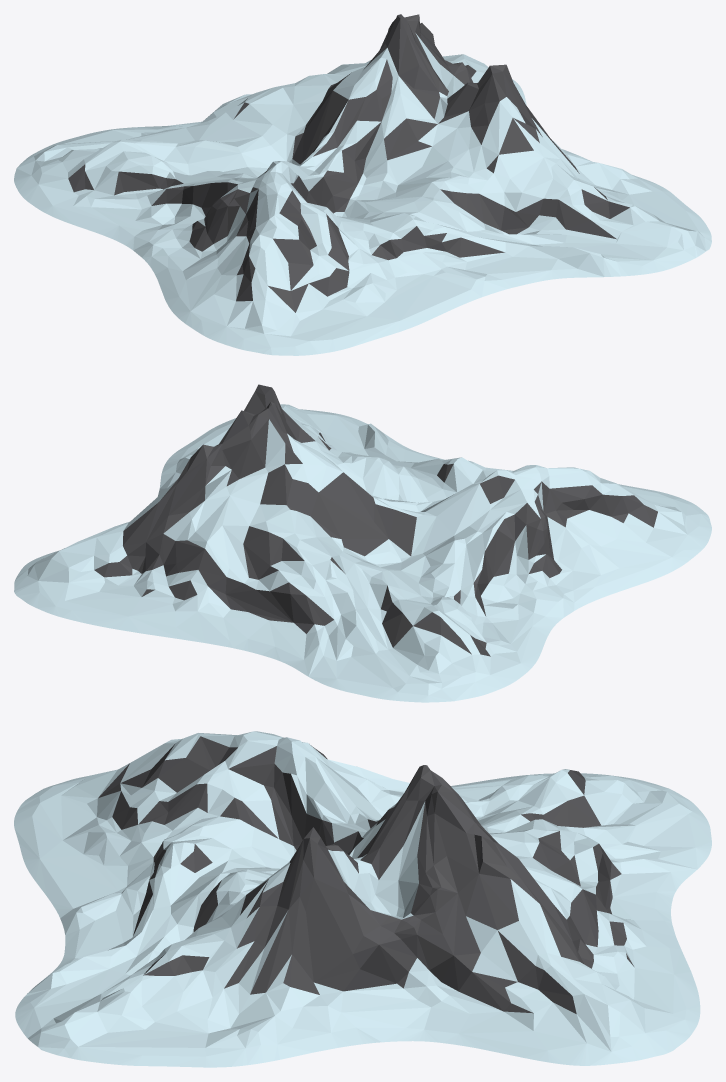
File: bg-snow-a.glb
3 renders of one model, top to bottom at view 1: azimuth 30°, elevation 25°; view 2: azimuth 150°, elevation 25°; view 3: azimuth 270°, elevation 25°, orthographic. The views are drawn at different scales.
Parts seen in each view (by area): view 1: SM_Env_Mountains_Snow_01; view 2: SM_Env_Mountains_Snow_01; view 3: SM_Env_Mountains_Snow_01.
Boxes of the visible parts, x1,y1,x2,y2 form: SM_Env_Mountains_Snow_01: [14, 14, 711, 355]; SM_Env_Mountains_Snow_01: [14, 384, 711, 702]; SM_Env_Mountains_Snow_01: [14, 731, 711, 1067].
Bounding box in the file's own units: 23.89 × 7.24 × 23.61.
1 material, 1 textured.
